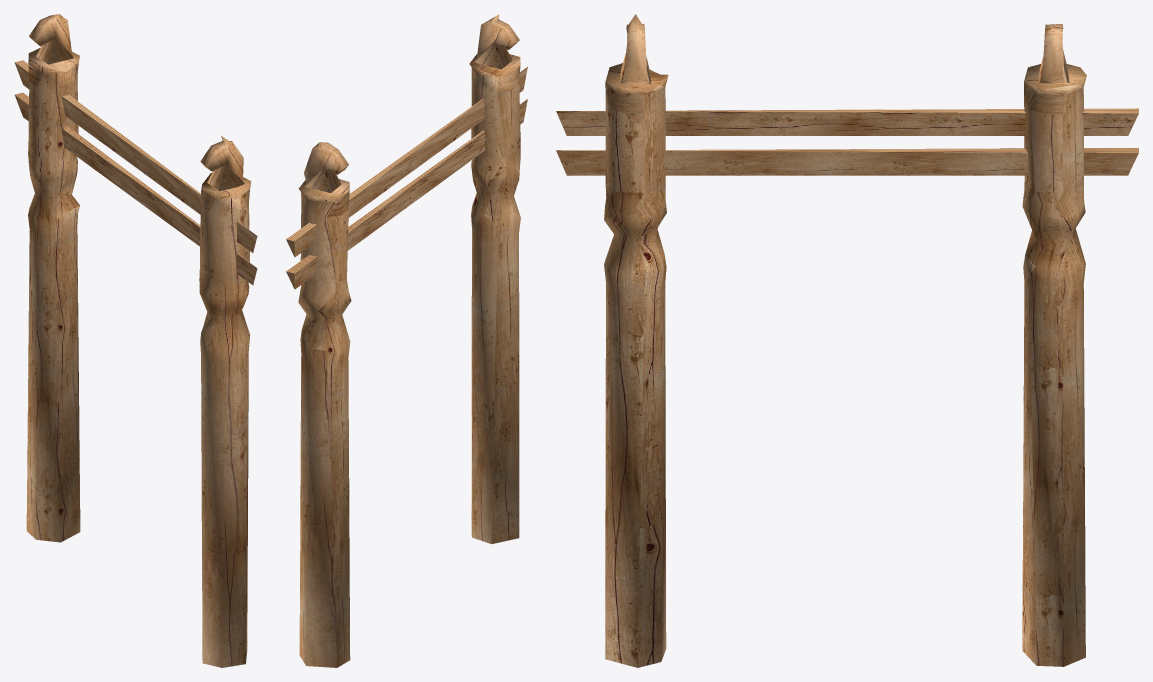
The model's file is serge1.glb.
3 views of the same model, side by side, from view 1: azimuth 30°, elevation 25°; view 2: azimuth 150°, elevation 25°; view 3: azimuth 270°, elevation 25° (orthographic). The views are drawn at different scales.
Visible parts, largest first — view 1: Сэргэлэр; view 2: Сэргэлэр; view 3: Сэргэлэр.
Boxes of the visible parts, x1=… form: Сэргэлэр: x1=14, y1=14, x2=257, y2=667; Сэргэлэр: x1=286, y1=14, x2=527, y2=667; Сэргэлэр: x1=556, y1=14, x2=1138, y2=667.
Bounding box in the file's own units: 0.1963 × 2.07 × 1.71.
Materials: 1 (1 with a texture image).
